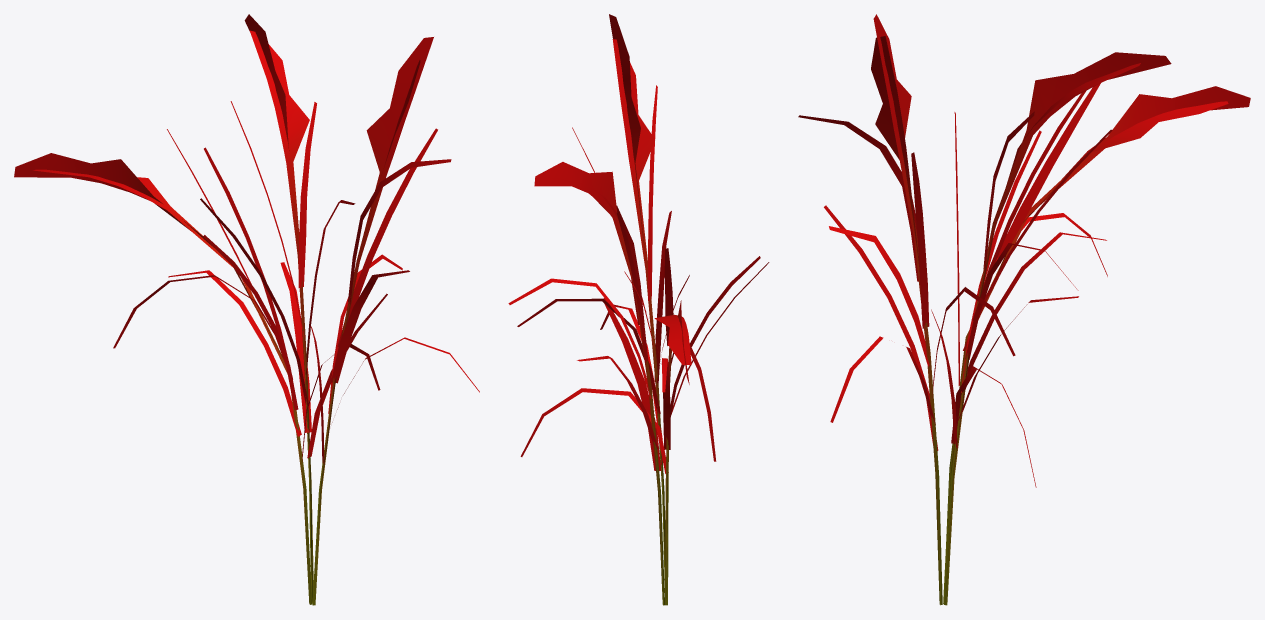
The model's file is Var13_LOD2.fbx.
The picture shows the model from 3 angles, left to right: view 1: azimuth 30°, elevation 25°; view 2: azimuth 150°, elevation 25°; view 3: azimuth 270°, elevation 25°; orthographic projection. The views are drawn at different scales.
Visible parts, largest first — view 1: _9h78_Var13_LOD2; view 2: _9h78_Var13_LOD2; view 3: _9h78_Var13_LOD2.
Part boxes in pixels (x1,y1,x2,y2): _9h78_Var13_LOD2: [14, 14, 479, 605]; _9h78_Var13_LOD2: [508, 14, 769, 605]; _9h78_Var13_LOD2: [798, 14, 1250, 605].
Size of the model in its own units: 15.75 by 30.12 by 19.46.
